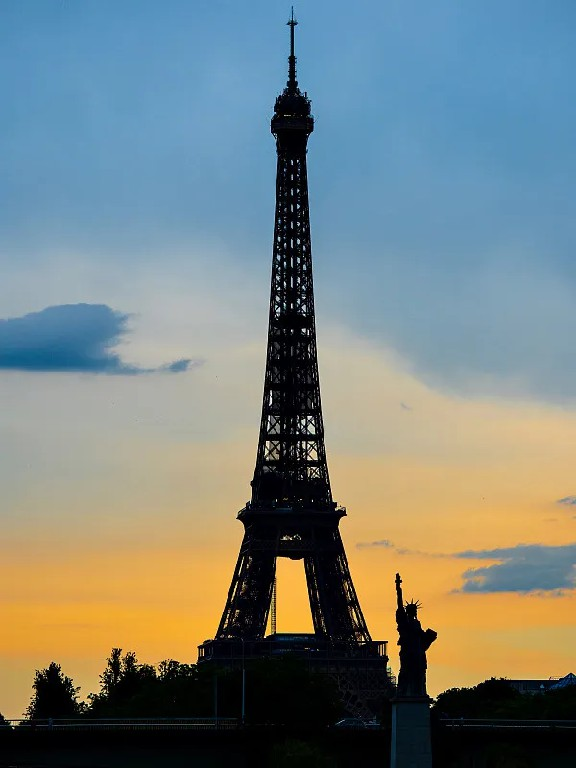Eiffel: (196, 4, 394, 712)
